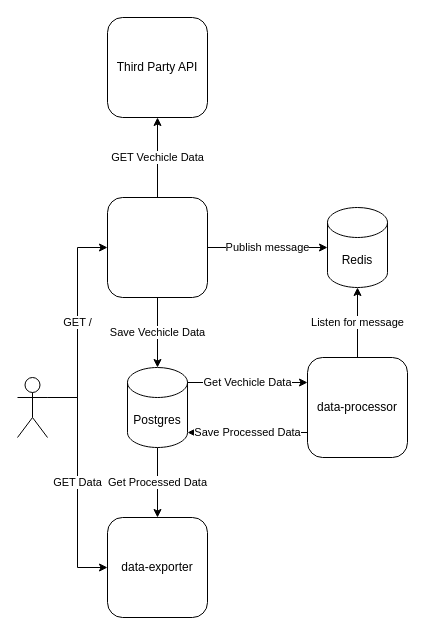
Some shapes in this 425 by 635 pixel diagram are drawn without their labels. Each missing label, with the centre of its shape:
"data-collector" goes at [157,247].
"User" goes at [32,407].
